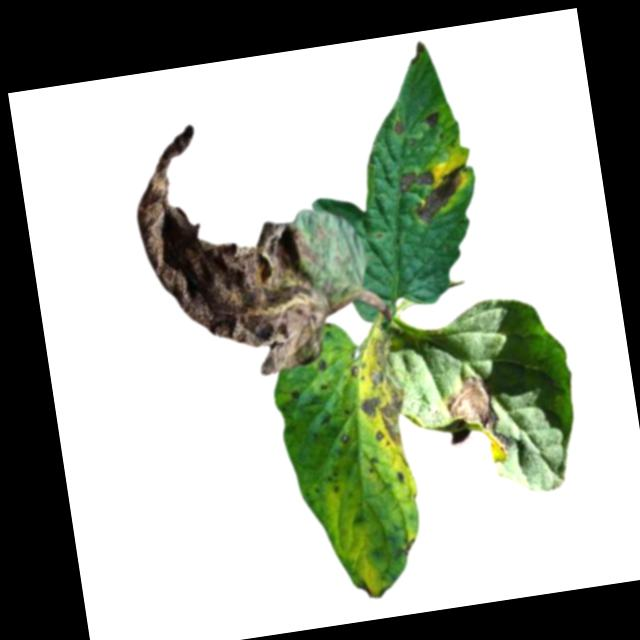Early_blight: (123, 107, 352, 386), (443, 368, 519, 470), (350, 330, 412, 450), (404, 159, 473, 226), (393, 164, 436, 194), (355, 573, 389, 602), (420, 107, 443, 132), (285, 384, 307, 402), (389, 117, 405, 135)
